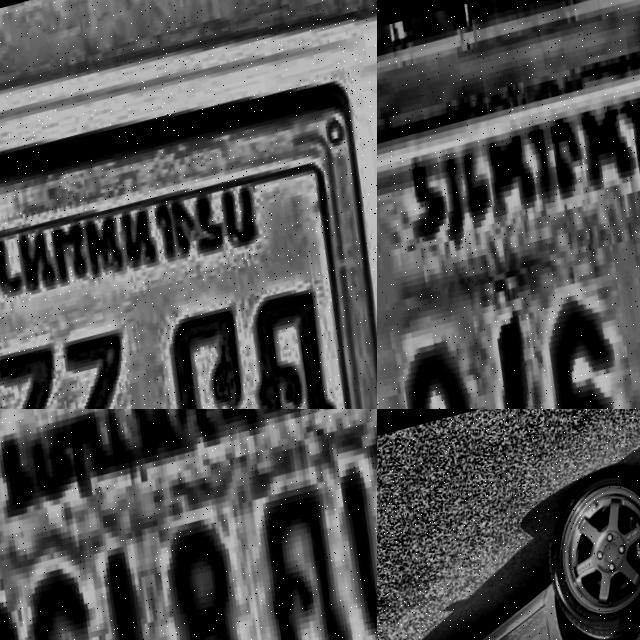license-plate: (0, 46, 377, 409), (377, 0, 640, 409), (0, 409, 377, 640)
